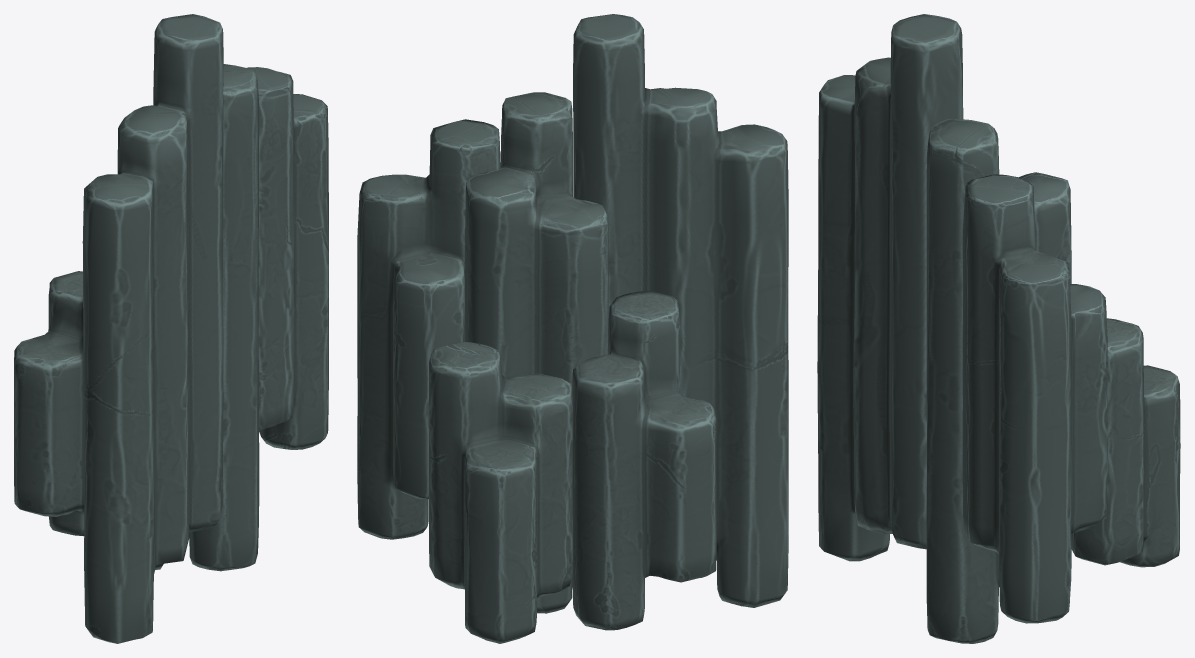
File: CausewayRocks.fbx
The picture shows the model from 3 angles, left to right: view 1: azimuth 30°, elevation 25°; view 2: azimuth 150°, elevation 25°; view 3: azimuth 270°, elevation 25°; orthographic projection. The views are drawn at different scales.
Parts seen in each view (by area): view 1: group2_low, group4_low, group3_low, group5_low; view 2: group2_low, group5_low, group1_low, group4_low, group3_low; view 3: group2_low, group4_low, group3_low, group1_low.
Part boxes in pixels (bbox=[...]): group2_low: bbox=[82, 14, 223, 643]; group4_low: bbox=[247, 67, 328, 449]; group3_low: bbox=[189, 64, 259, 571]; group5_low: bbox=[14, 271, 84, 536]; group2_low: bbox=[573, 14, 788, 607]; group5_low: bbox=[572, 290, 716, 630]; group1_low: bbox=[429, 341, 572, 643]; group4_low: bbox=[357, 119, 500, 539]; group3_low: bbox=[464, 92, 608, 613]; group2_low: bbox=[817, 14, 963, 561]; group4_low: bbox=[962, 174, 1107, 623]; group3_low: bbox=[926, 119, 1071, 643]; group1_low: bbox=[1071, 318, 1180, 567].
Bounding box in the file's own units: 28.3 × 45.82 × 26.06.
